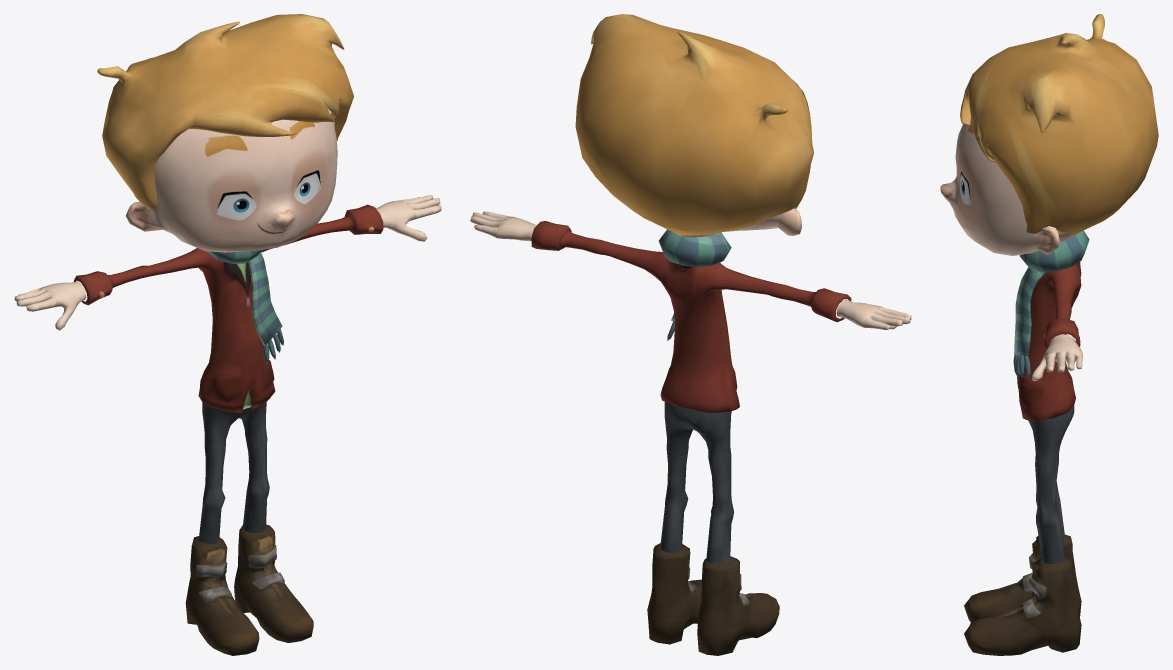
Rendered from character3.gltf.
3 renders of one model, left to right at view 1: azimuth 30°, elevation 25°; view 2: azimuth 150°, elevation 25°; view 3: azimuth 270°, elevation 25°, orthographic. The views are drawn at different scales.
Visible parts, largest first — view 1: Boy01_Hair_Geo, Boy01_Head_Geo, Boy01_UpperBody_Geo, Boy01_Shoes_Geo, Boy01_LowerBody_Geo, Boy01_Hands_Geo, Boy01_Scarf_Geo; view 2: Boy01_Hair_Geo, Boy01_UpperBody_Geo, Boy01_Shoes_Geo, Boy01_LowerBody_Geo, Boy01_Hands_Geo, Boy01_Scarf_Geo, Boy01_Head_Geo; view 3: Boy01_Hair_Geo, Boy01_Shoes_Geo, Boy01_Head_Geo, Boy01_UpperBody_Geo, Boy01_LowerBody_Geo, Boy01_Scarf_Geo, Boy01_Hands_Geo.
Part boxes in pixels (box(x1,y1,x2,y2)): Boy01_Hair_Geo: box(97, 14, 353, 210); Boy01_Head_Geo: box(126, 107, 337, 252); Boy01_UpperBody_Geo: box(73, 204, 383, 412); Boy01_Shoes_Geo: box(185, 524, 313, 655); Boy01_LowerBody_Geo: box(198, 402, 269, 543); Boy01_Hands_Geo: box(14, 195, 441, 330); Boy01_Scarf_Geo: box(207, 250, 283, 363); Boy01_Hair_Geo: box(575, 14, 813, 235); Boy01_UpperBody_Geo: box(531, 221, 851, 412); Boy01_Shoes_Geo: box(647, 543, 779, 655); Boy01_LowerBody_Geo: box(660, 402, 733, 563); Boy01_Hands_Geo: box(470, 211, 911, 329); Boy01_Scarf_Geo: box(658, 229, 731, 340); Boy01_Head_Geo: box(590, 169, 801, 237); Boy01_Hair_Geo: box(960, 14, 1158, 233); Boy01_Shoes_Geo: box(964, 534, 1081, 655); Boy01_Head_Geo: box(940, 118, 1077, 256); Boy01_UpperBody_Geo: box(1017, 262, 1081, 420); Boy01_LowerBody_Geo: box(1028, 405, 1074, 563); Boy01_Scarf_Geo: box(1013, 230, 1089, 378); Boy01_Hands_Geo: box(1032, 334, 1082, 380).
Size of the model in its own units: 158 by 212 by 70.08.
7 materials, 7 textured.
